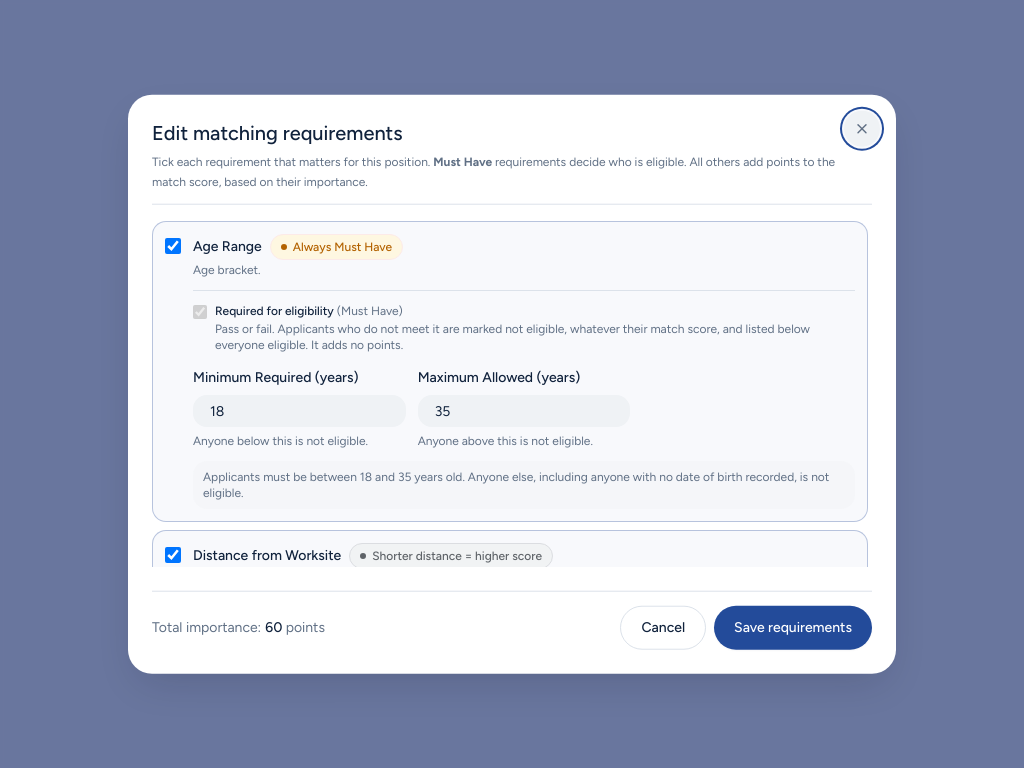
Scenario: CriteriaDialog › stops a range that runs backwards before it reaches the server
The width and height of the screenshot is (1024, 768).
Step 1. Replace the text in the number field labelled "Maximum Allowed (years)" with "10" → x=524, y=411, box [418, 395, 630, 427]
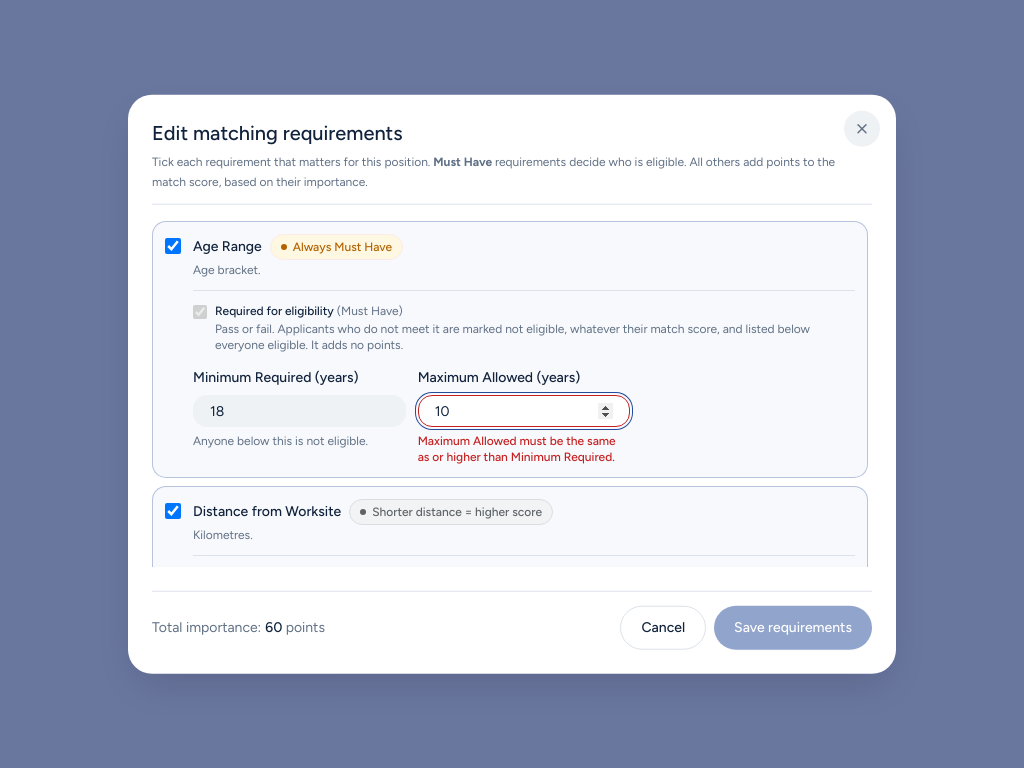
Check: the text "Maximum Allowed must be the same as or higher than Minimum Required." is shown, box [418, 433, 630, 465]
Check: the button "Save requirements" is disabled, box [714, 605, 872, 649]
